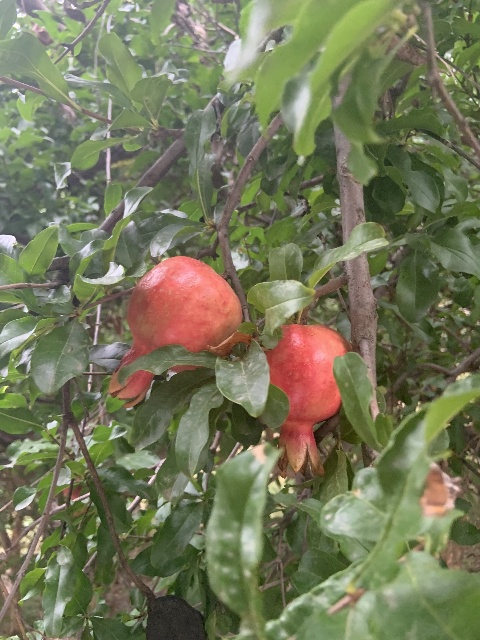ripe: (107, 255, 243, 410), (264, 324, 353, 478)
